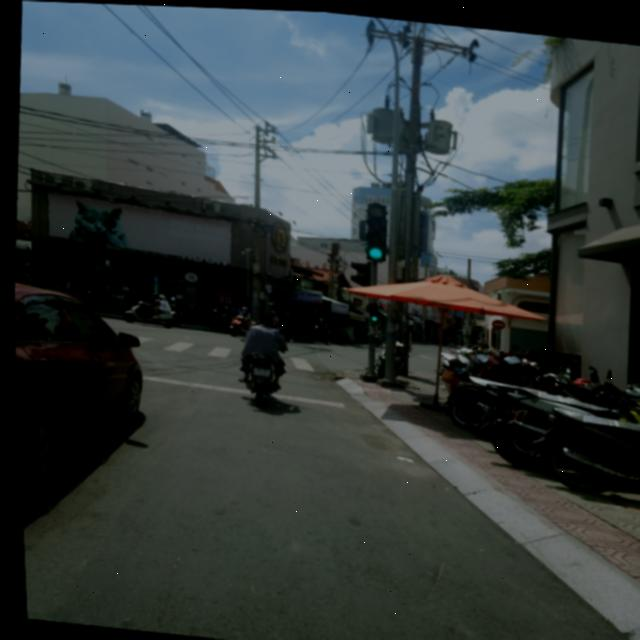Green: (352, 213, 395, 264), (361, 298, 384, 324)
